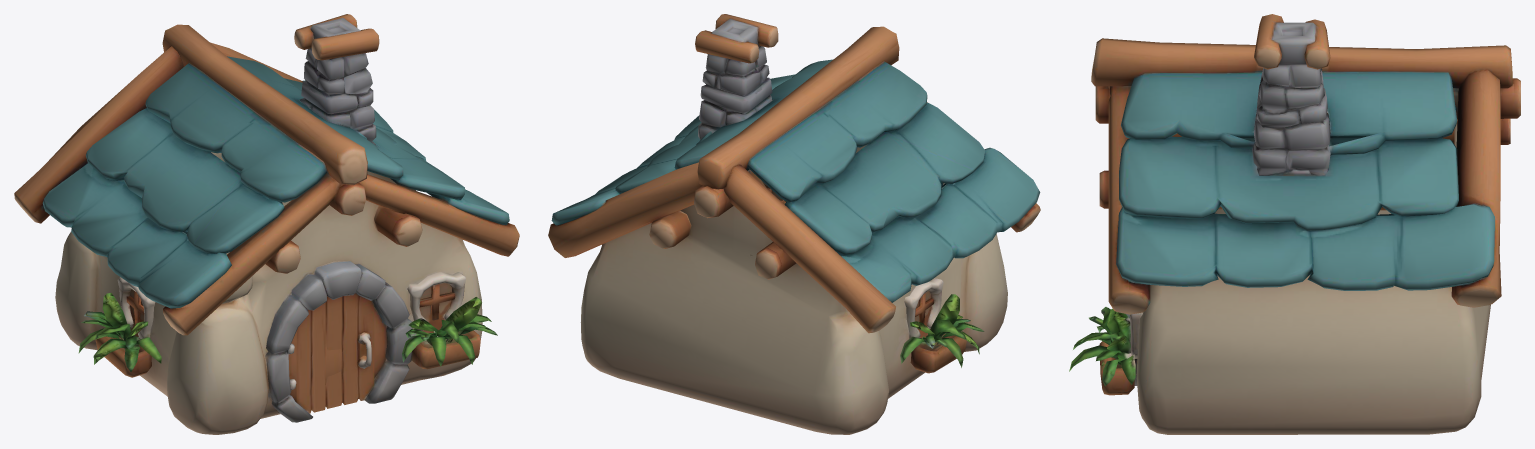
The model's file is player-boulder-hut.glb.
The picture shows the model from 3 angles, left to right: view 1: azimuth 30°, elevation 25°; view 2: azimuth 150°, elevation 25°; view 3: azimuth 270°, elevation 25°; orthographic projection. The views are drawn at different scales.
Visible parts, largest first — view 1: Player Boulder Hut; view 2: Player Boulder Hut; view 3: Player Boulder Hut.
Part boxes in pixels (x1=…): Player Boulder Hut: x1=14, y1=14, x2=519, y2=434; Player Boulder Hut: x1=548, y1=14, x2=1040, y2=434; Player Boulder Hut: x1=1069, y1=14, x2=1520, y2=434.
Size of the model in its own units: 0.998 by 0.8574 by 0.9551.
1 material, 1 textured.
